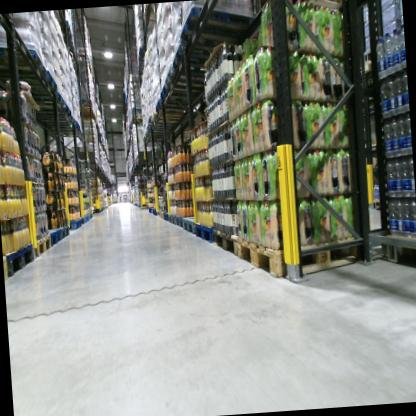pallet: (237, 221, 373, 284), (169, 30, 257, 76), (179, 3, 256, 50), (0, 65, 60, 100), (378, 227, 416, 270), (163, 65, 211, 98), (0, 41, 45, 74), (6, 243, 39, 282), (158, 81, 211, 105), (213, 225, 243, 260), (153, 94, 198, 116), (26, 92, 67, 110), (151, 106, 197, 121), (28, 106, 73, 121), (31, 231, 53, 260), (194, 218, 216, 246), (144, 113, 182, 129), (39, 115, 77, 131), (142, 3, 161, 24), (56, 19, 75, 40), (182, 215, 199, 237), (47, 228, 63, 247), (169, 212, 185, 230), (59, 121, 82, 133), (57, 225, 70, 242), (3, 252, 10, 283), (66, 34, 76, 53), (67, 221, 82, 231), (133, 114, 145, 123), (77, 216, 85, 227), (159, 210, 166, 221), (77, 129, 85, 138), (163, 212, 170, 222), (148, 207, 155, 215), (153, 208, 159, 217), (83, 216, 89, 224)
